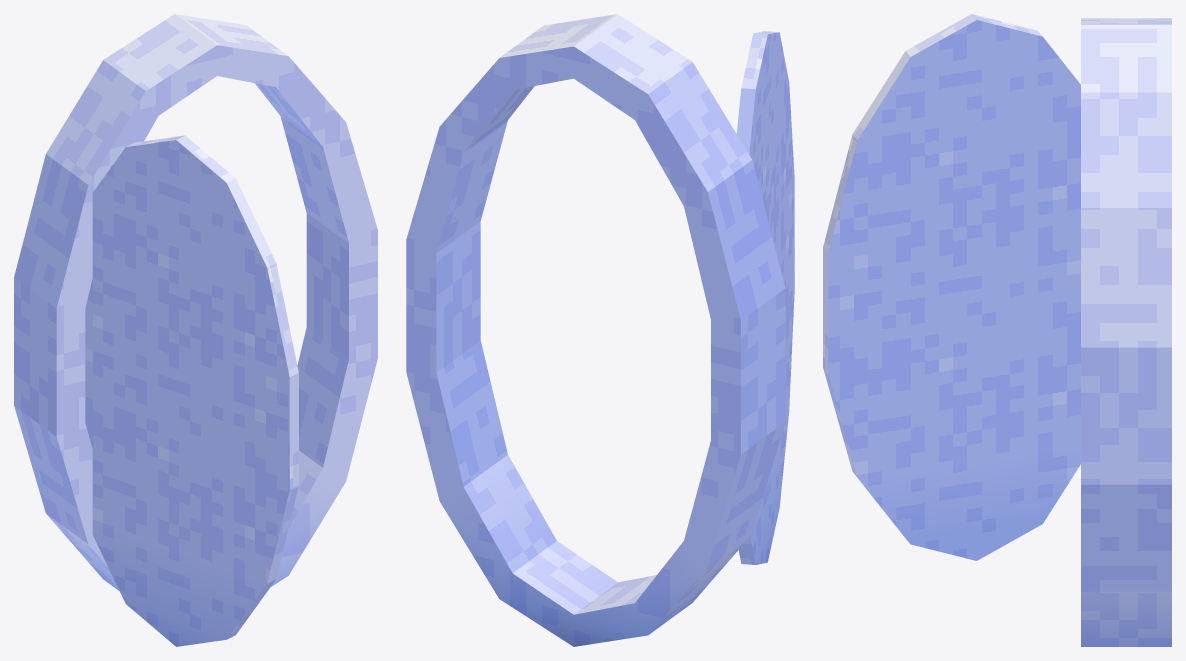
File: arch.door__oval_open.glb
The picture shows the model from 3 angles, left to right: view 1: azimuth 30°, elevation 25°; view 2: azimuth 150°, elevation 25°; view 3: azimuth 270°, elevation 25°; orthographic projection. The views are drawn at different scales.
Parts seen in each view (by area): view 1: kit_door_leaf, kit_door_frame; view 2: kit_door_frame, kit_door_leaf; view 3: kit_door_leaf, kit_door_frame.
Boxes of the visible parts, box(x1,y1,x2,y2) form: kit_door_leaf: box(85, 135, 298, 646); kit_door_frame: box(14, 14, 377, 590); kit_door_frame: box(406, 14, 785, 646); kit_door_leaf: box(736, 31, 794, 564); kit_door_leaf: box(823, 14, 1080, 560); kit_door_frame: box(1081, 18, 1171, 646).
Size of the model in its own units: 1.31 by 2.24 by 1.15.
2 materials, 2 textured.
